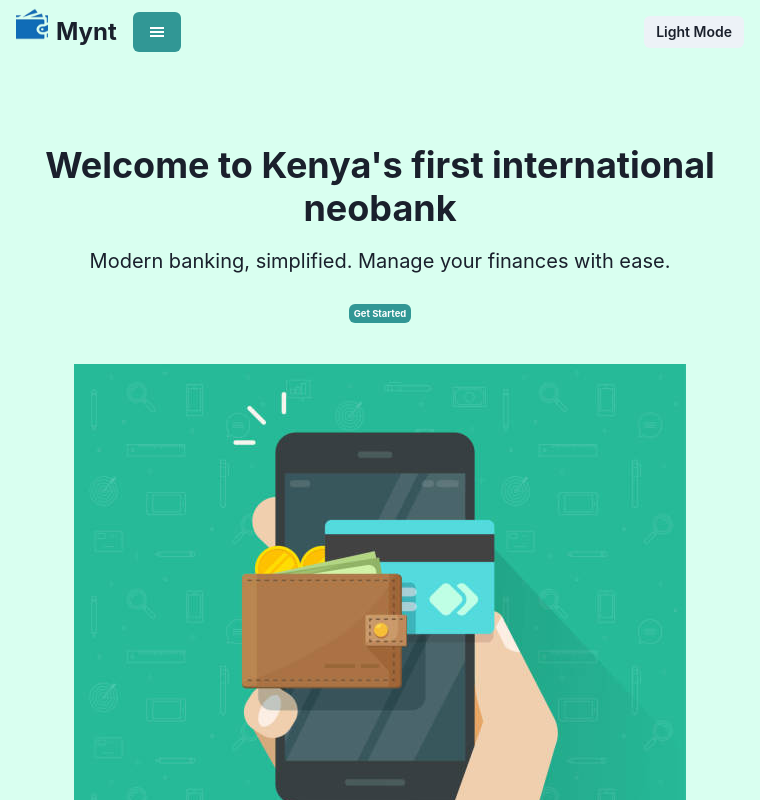
Test: log in page › displays an error message when incorrect email is used
The width and height of the screenshot is (760, 800).
Click the button with test id "navButton": {"x": 157, "y": 32} [133,12,181,52]
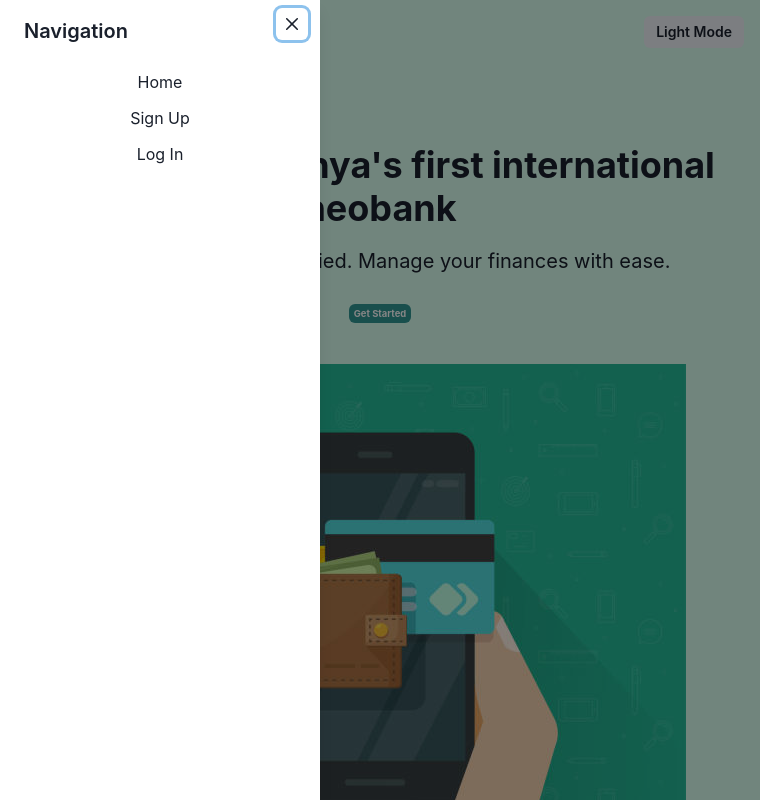
Click the link with test id "LoginLink": {"x": 161, "y": 154} [137,142,184,166]
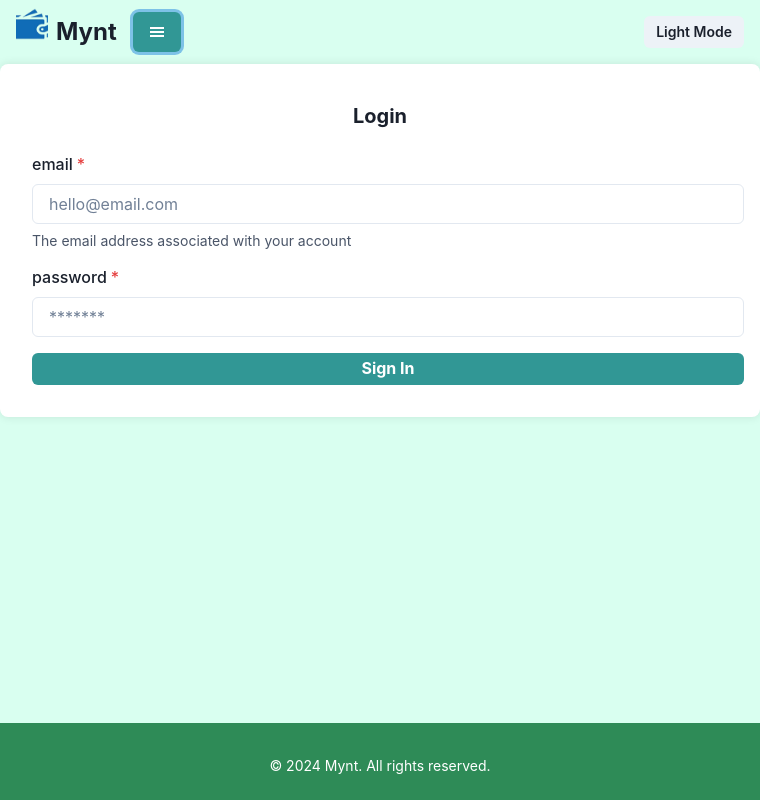
In the field with test id "emailInput": {"x": 388, "y": 204} [32,184,744,224], type "invalid@email.com"
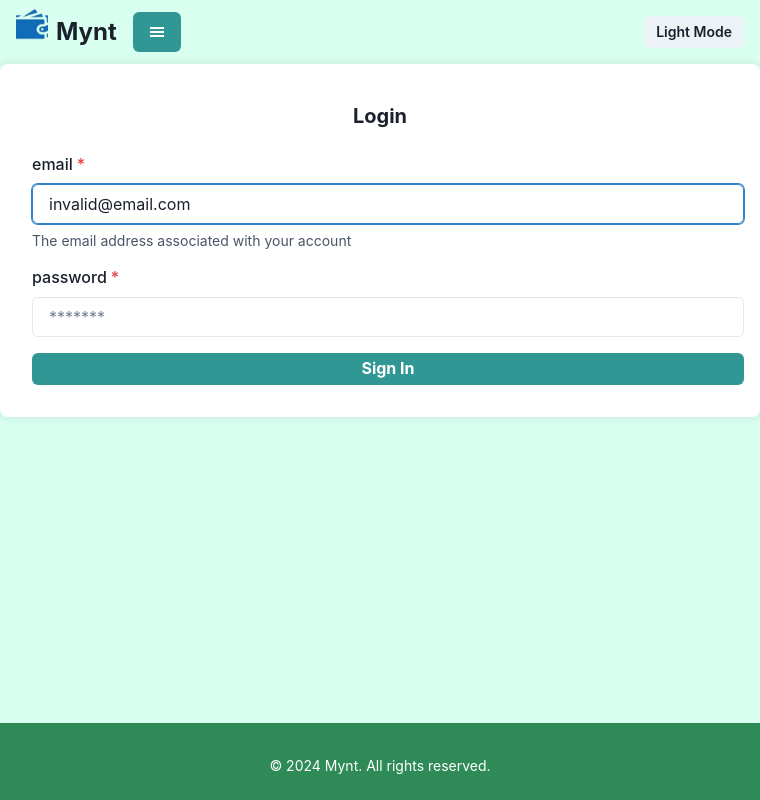
In the password field with test id "passwordInput": {"x": 388, "y": 317} [32,297,744,337], type "test"
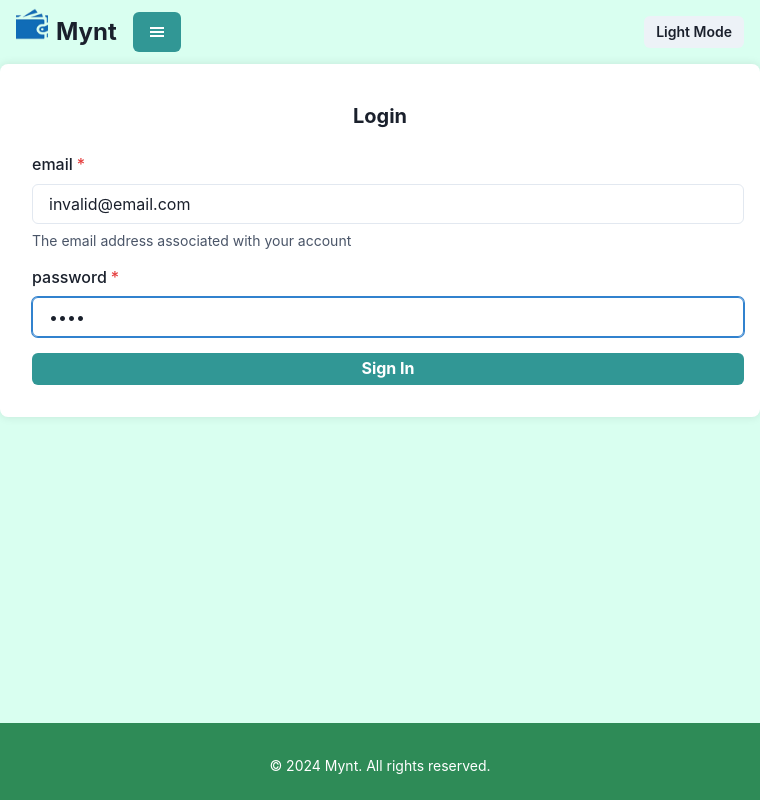
Click the button with test id "submitButton": {"x": 388, "y": 369} [32,353,744,385]
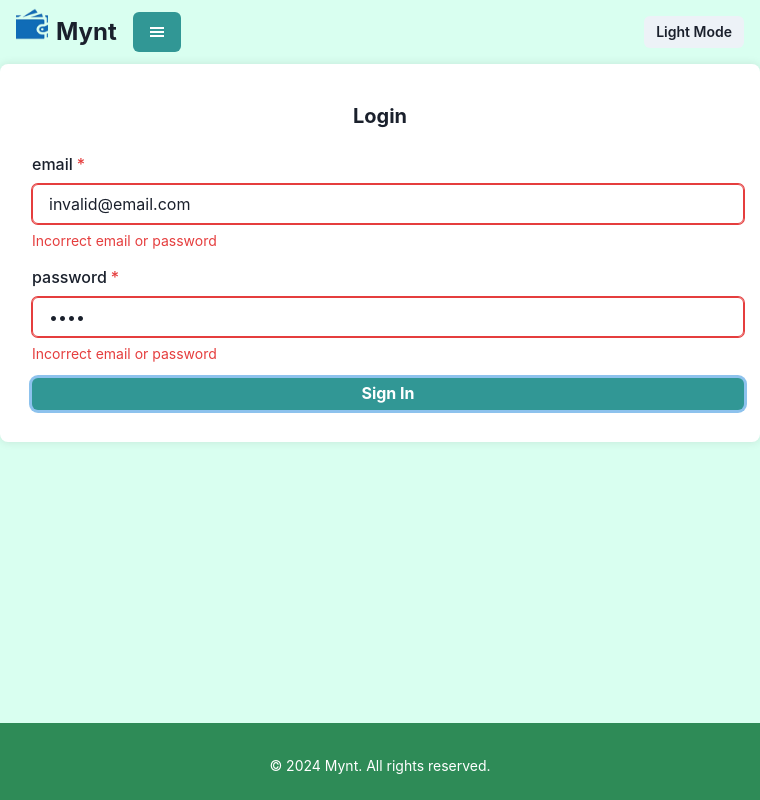
Now the 1st text with test id "errorMessage" reads "Incorrect email or password", box [32,232,217,249]
